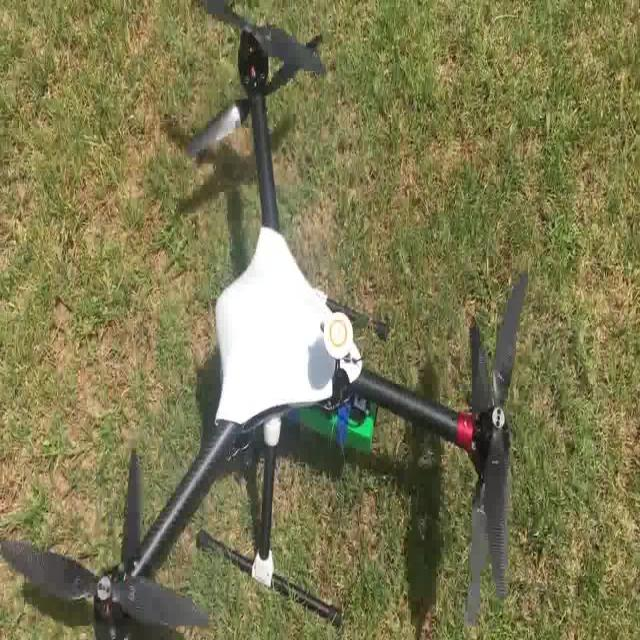Drone_FW: (0, 0, 530, 636)
